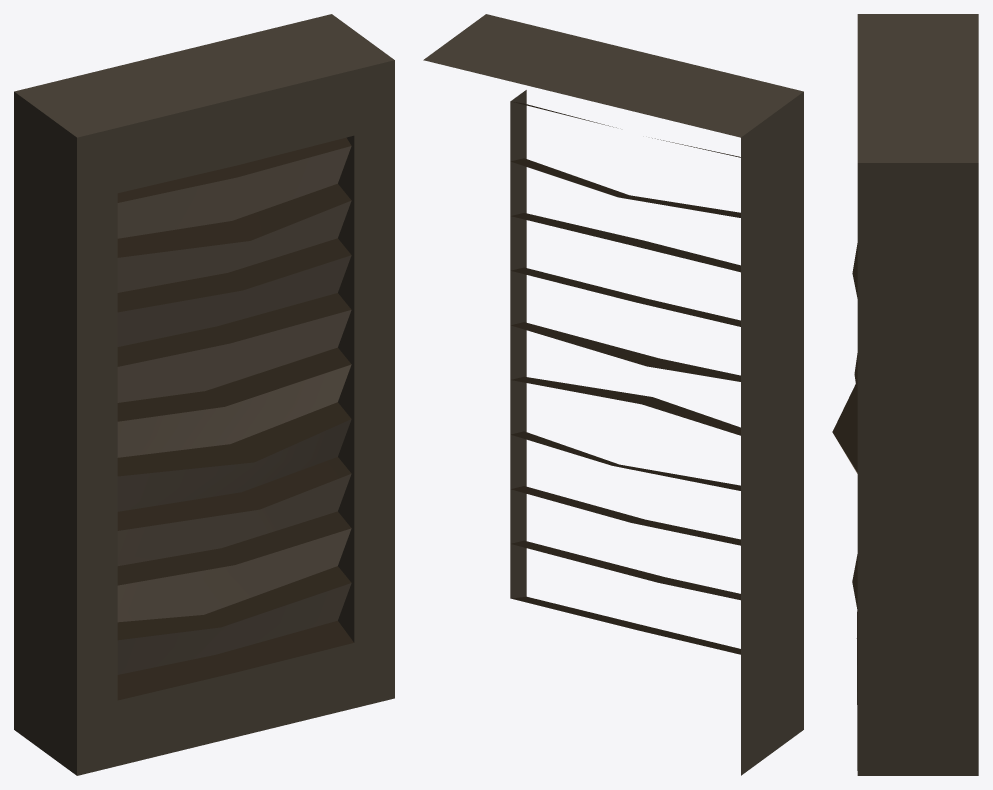
Rendered from SM_Prop_Shanty_BuildingAttachment_02.glb.
The picture shows the model from 3 angles, left to right: view 1: azimuth 30°, elevation 25°; view 2: azimuth 150°, elevation 25°; view 3: azimuth 270°, elevation 25°; orthographic projection. The views are drawn at different scales.
Visible parts, largest first — view 1: SM_Prop_Shanty_BuildingAttachment_02; view 2: SM_Prop_Shanty_BuildingAttachment_02; view 3: SM_Prop_Shanty_BuildingAttachment_02.
Part boxes in pixels (x1,y1,x2,y2): SM_Prop_Shanty_BuildingAttachment_02: (14,14,394,775); SM_Prop_Shanty_BuildingAttachment_02: (423,14,803,775); SM_Prop_Shanty_BuildingAttachment_02: (832,14,978,775).
Bounding box in the file's own units: 0.00583 × 0.0112 × 0.00242.
